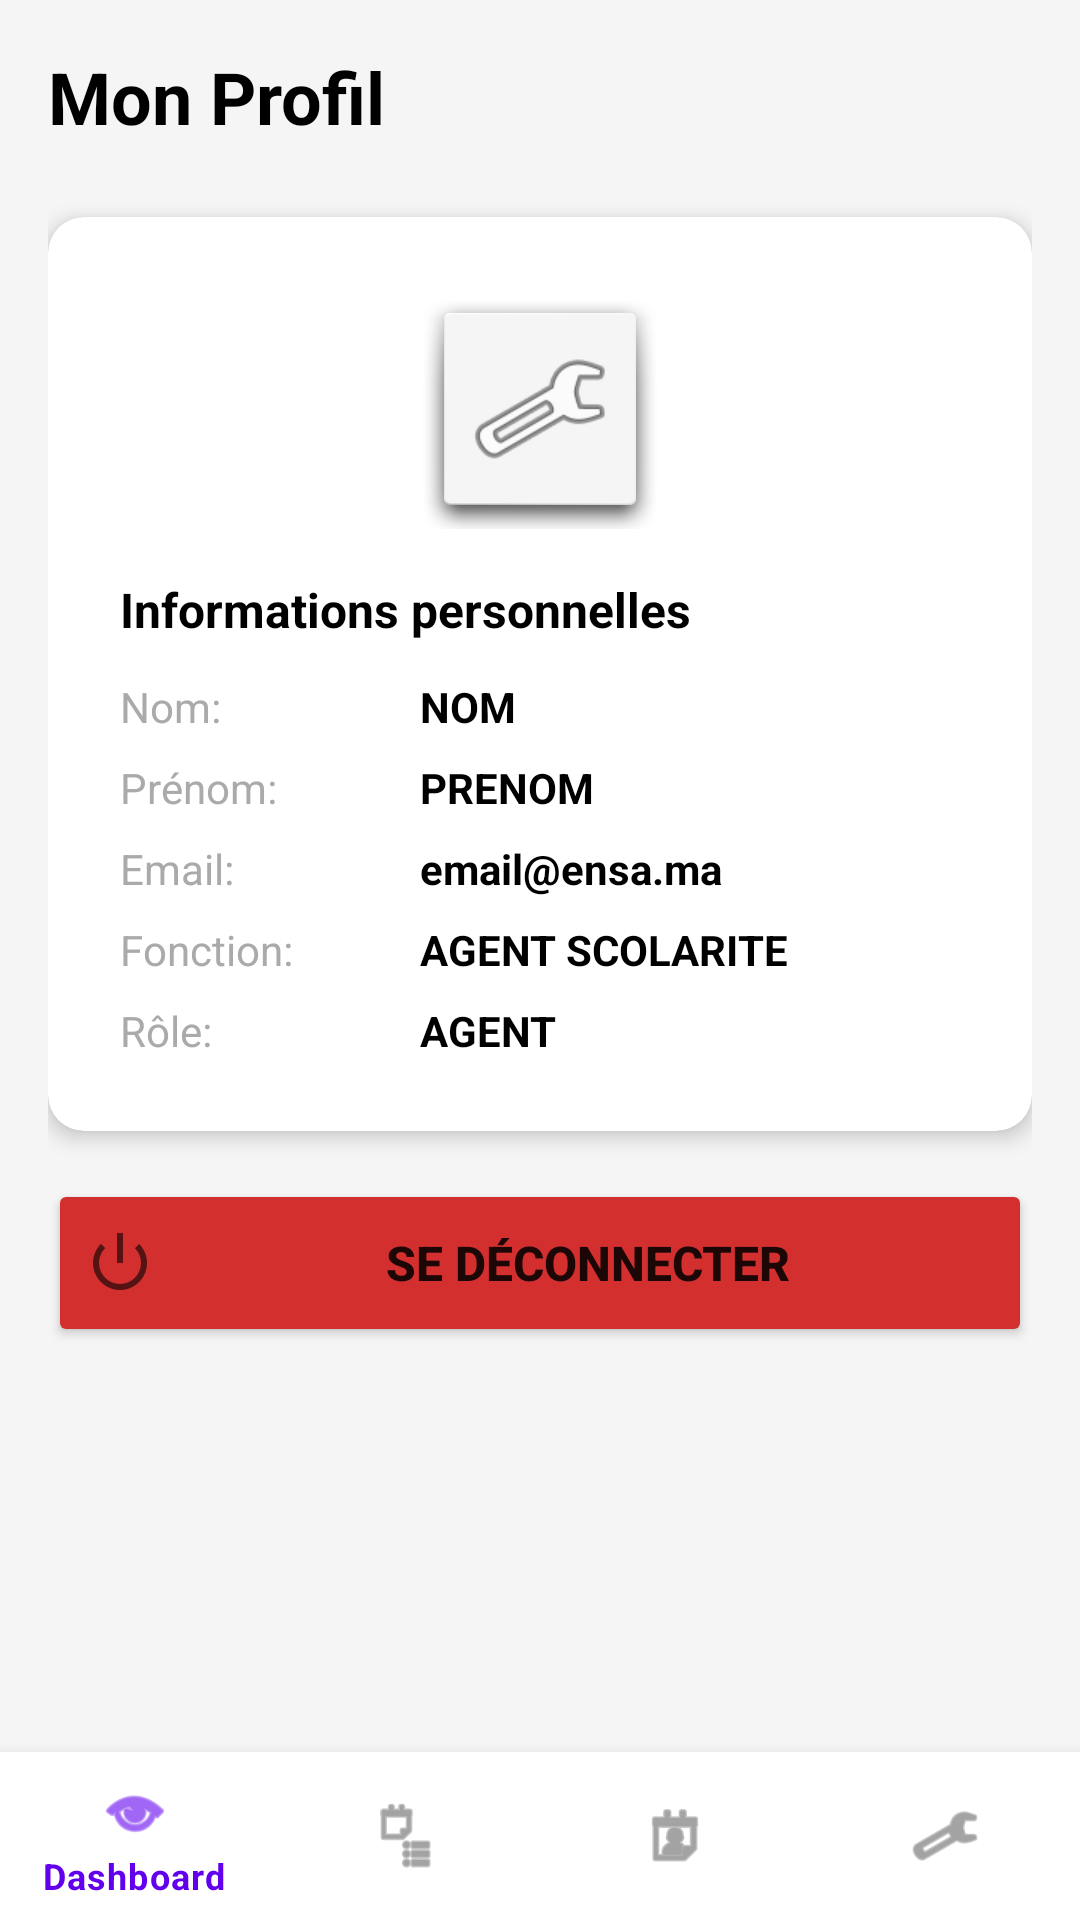

Where to tap for icons on this 1080×1920 app screen, as (x,y):
manage: (540,416)
